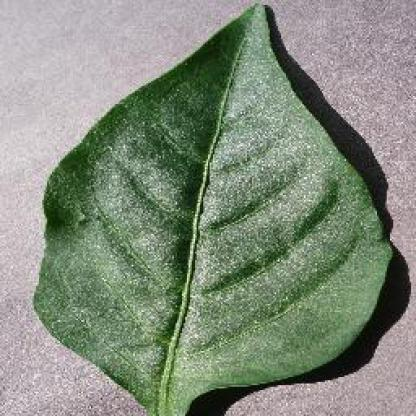good leaf: (54, 43, 382, 360)
